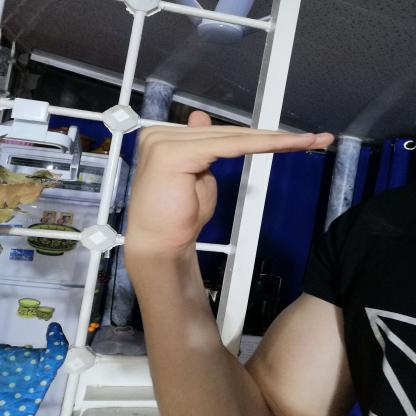KHAA: (102, 102, 353, 266)
